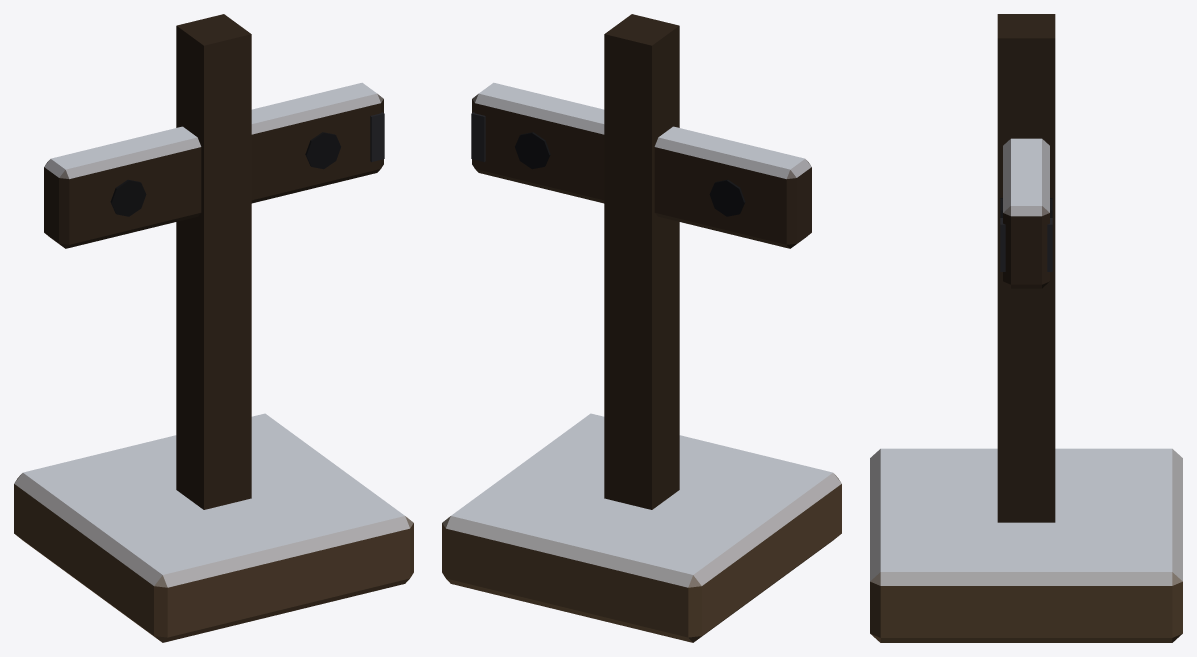
File: village_pillory.glb
The picture shows the model from 3 angles, left to right: view 1: azimuth 30°, elevation 25°; view 2: azimuth 150°, elevation 25°; view 3: azimuth 270°, elevation 25°; orthographic projection. The views are drawn at different scales.
Parts seen in each view (by area): view 1: village_pillory; view 2: village_pillory; view 3: village_pillory.
Part boxes in pixels (x1,y1,x2,y2): village_pillory: (14, 14, 413, 642); village_pillory: (442, 14, 841, 642); village_pillory: (870, 14, 1182, 642).
Bounding box in the file's own units: 1.5 × 2.35 × 1.2.
